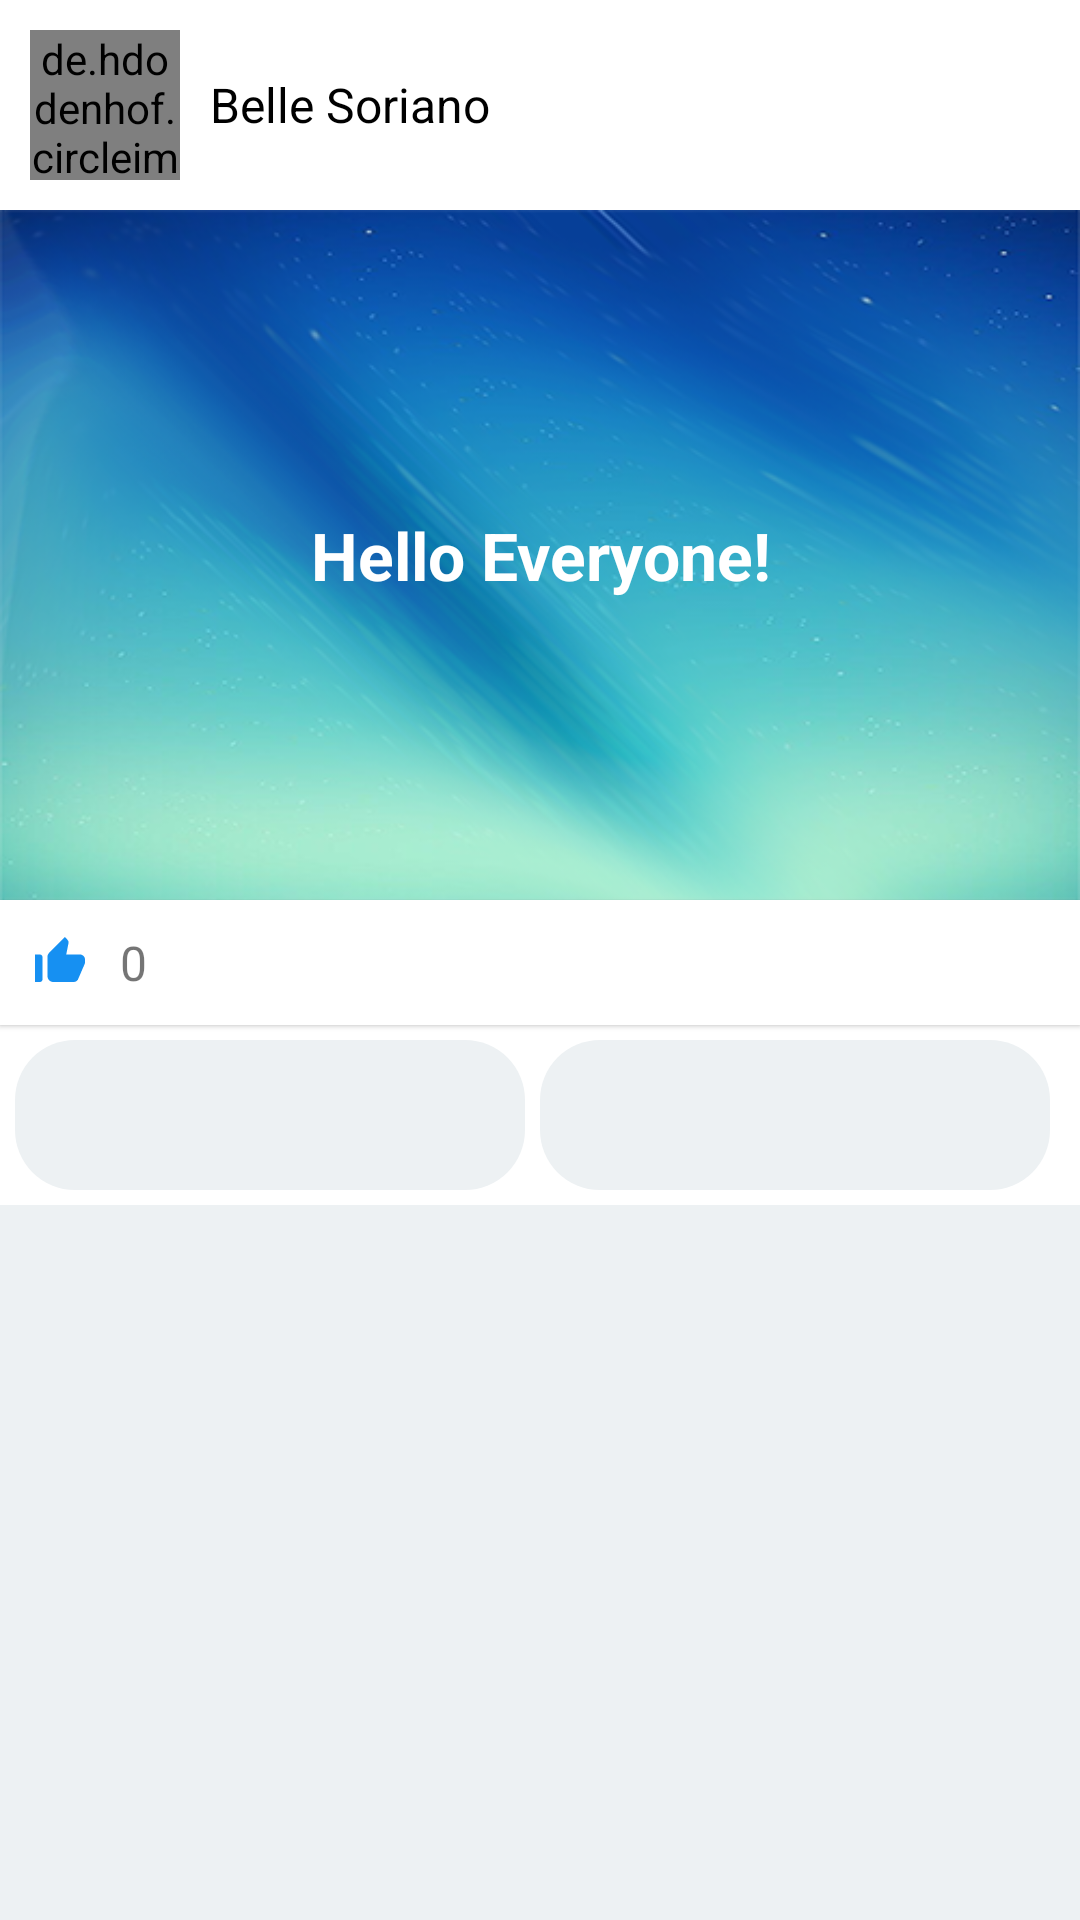

Named icons in this screenshot (1080 × 1920) and their centers, [x,y]:
thumb up sign: [60,959]
